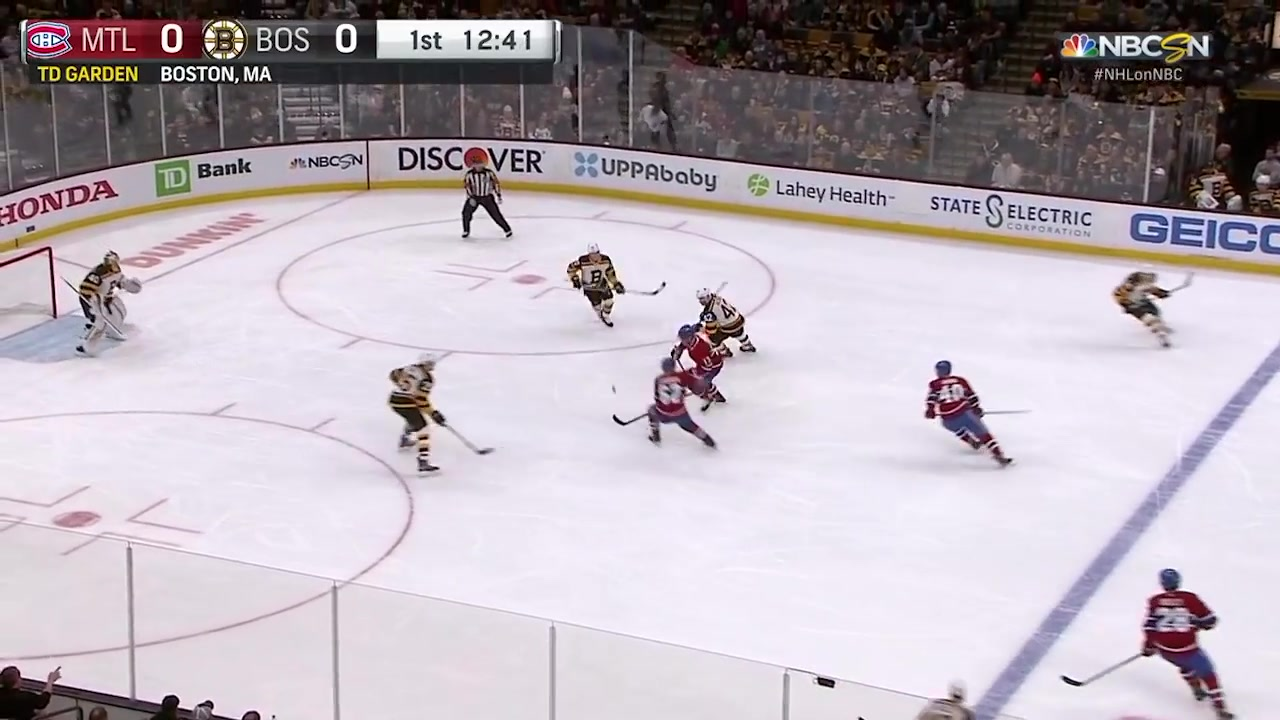geico: (1127, 203, 1280, 263)
